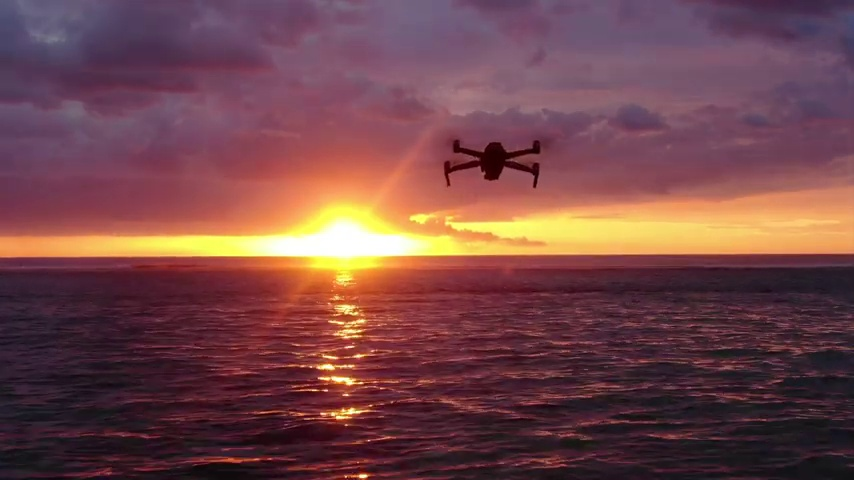drone: (442, 138, 540, 190)
